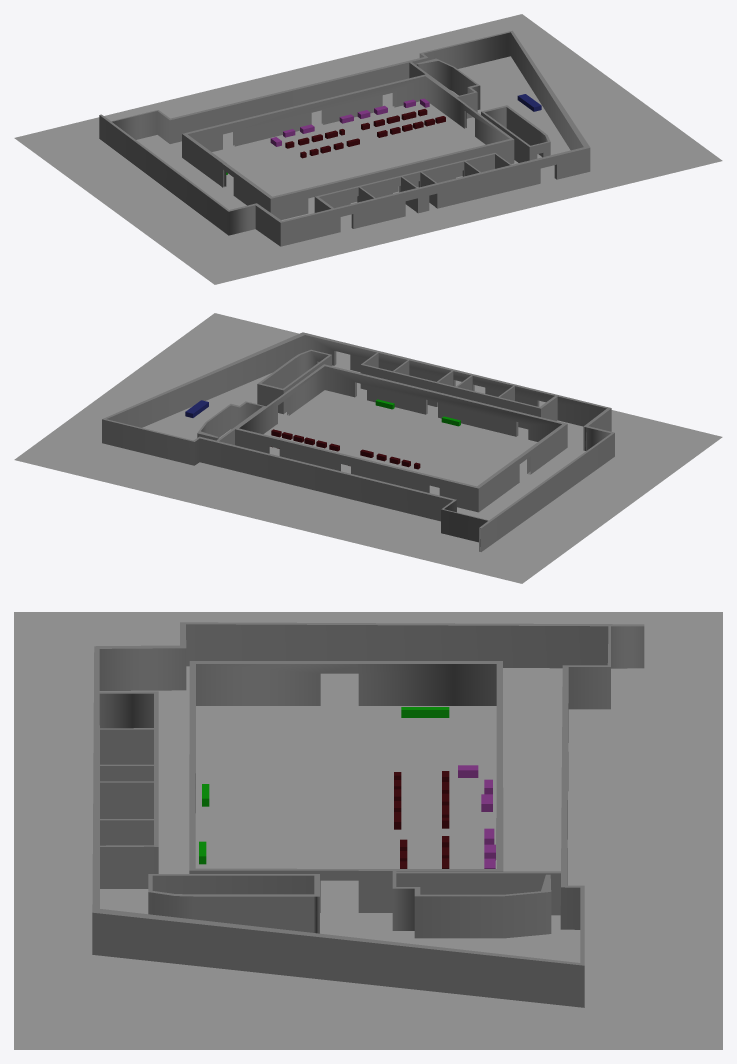
Rendered from planos.fbx.
3 renders of one model, top to bottom at view 1: azimuth 30°, elevation 25°; view 2: azimuth 150°, elevation 25°; view 3: azimuth 270°, elevation 25°, orthographic. The views are drawn at different scales.
Visible parts, largest first — view 1: polySurface61; view 2: polySurface61; view 3: polySurface61.
Boxes of the visible parts, left/top/right/bottom form: polySurface61: left=14, top=14, right=722, bottom=284; polySurface61: left=14, top=313, right=722, bottom=583; polySurface61: left=14, top=612, right=722, bottom=1049.
Bounding box in the file's own units: 7.12 × 0.3206 × 4.87.
